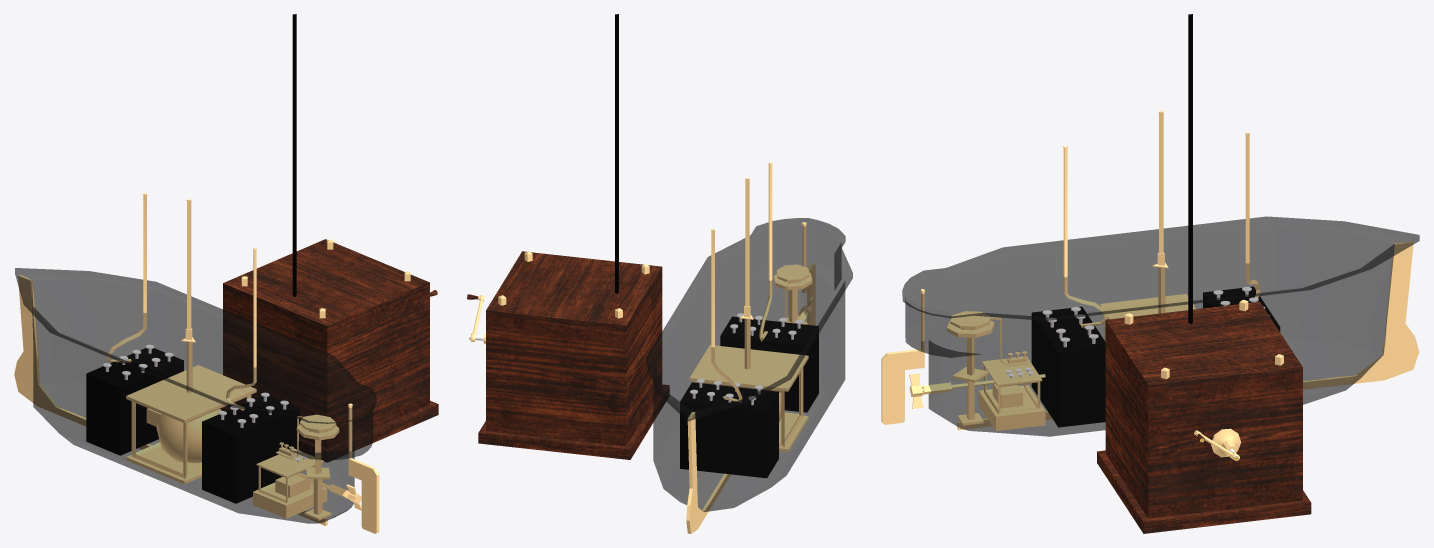
The model's file is invention-remote-technology.glb.
3 renders of one model, left to right at view 1: azimuth 30°, elevation 25°; view 2: azimuth 150°, elevation 25°; view 3: azimuth 270°, elevation 25°, orthographic. The views are drawn at different scales.
Visible parts, largest first — view 1: objects; view 2: objects; view 3: objects.
Boxes of the visible parts, x1,y1,x2,y2 form: objects: [14, 14, 438, 533]; objects: [467, 14, 852, 533]; objects: [881, 14, 1419, 533].
Size of the model in its own units: 1.64 by 1.82 by 1.95.
Materials: 6 (2 with a texture image).
